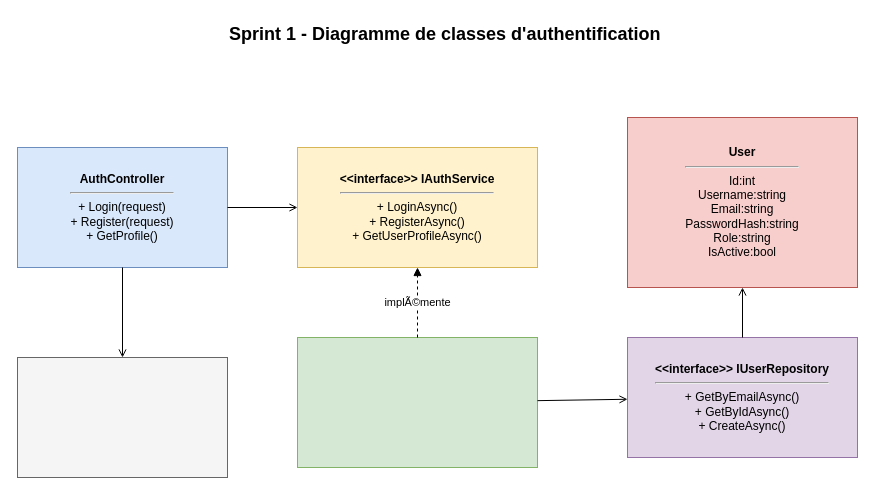
The diagram is 875 pixels wide and 495 high, and some of its shapes have lost their labels. Each missing label, with the centre of its shape:
"AuthService - userRepository - jwtSettings + GenerateJwtToken()" goes at pixel 417 402.
"DTOs LoginRequest RegisterRequest AuthResponse UserResponse" goes at pixel 122 417.
